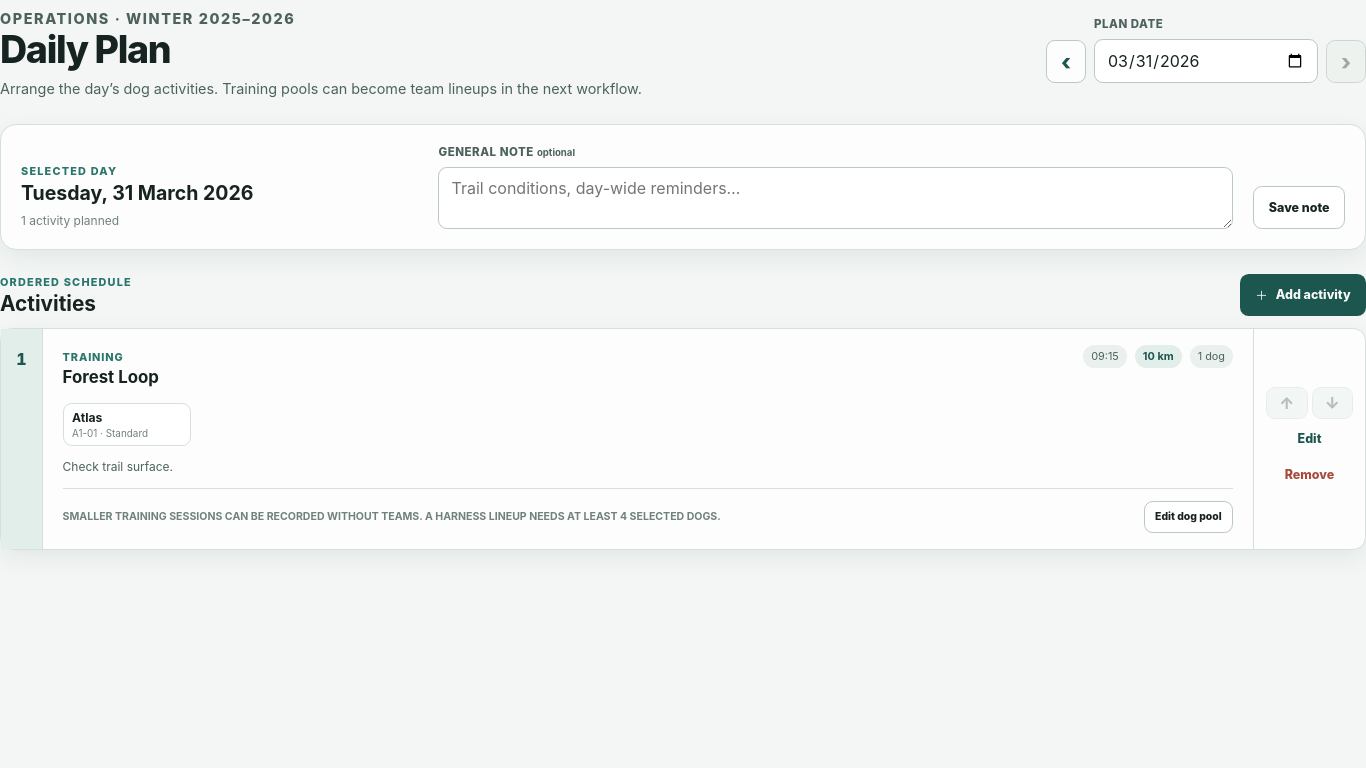
Test: DailyPlanPageComponent › edits and deletes an activity with revision-aware requests
The width and height of the screenshot is (1366, 768).
Click the button "Edit" at (1310, 439), box top-left (1266, 423), bottom-right (1353, 455)
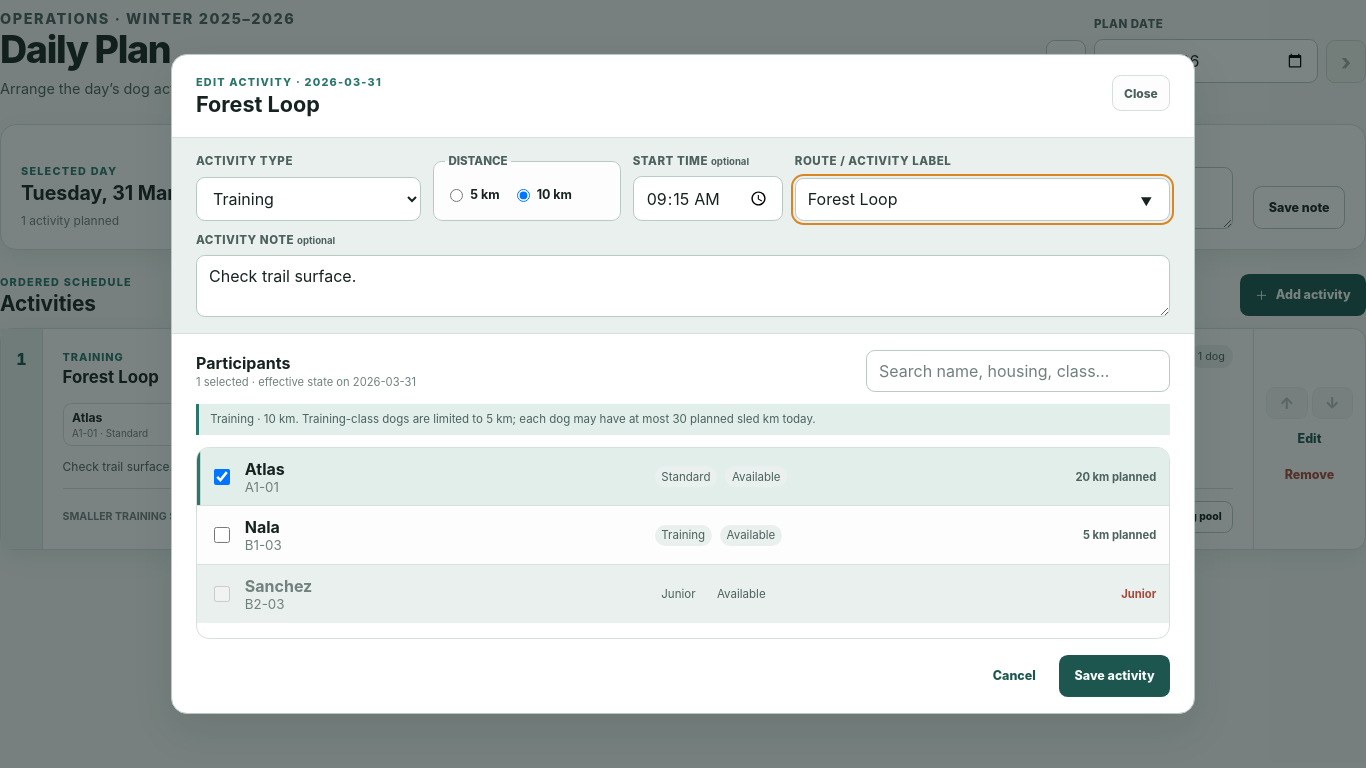
Submit the form, box top-left (172, 138), bottom-right (1194, 713)
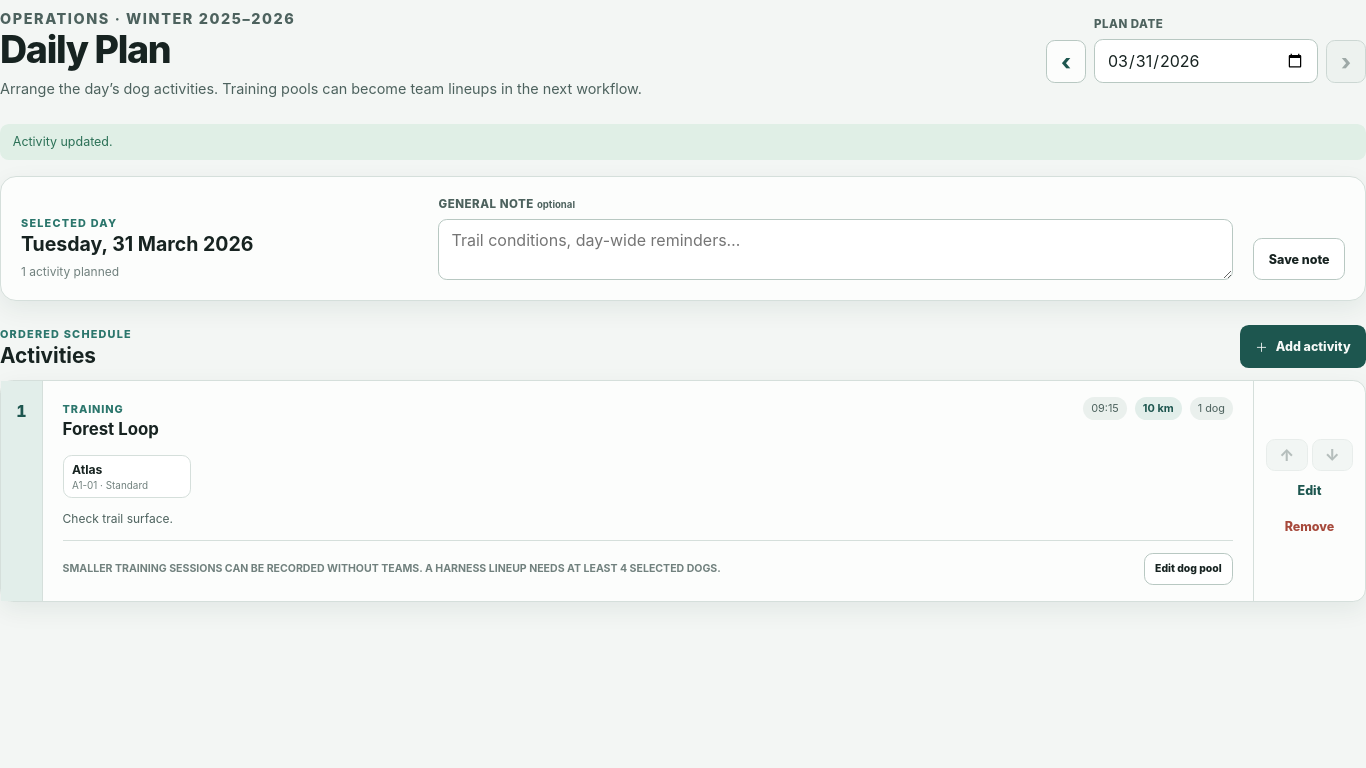
Click the button "Remove" at (1310, 527), box top-left (1266, 511), bottom-right (1353, 543)
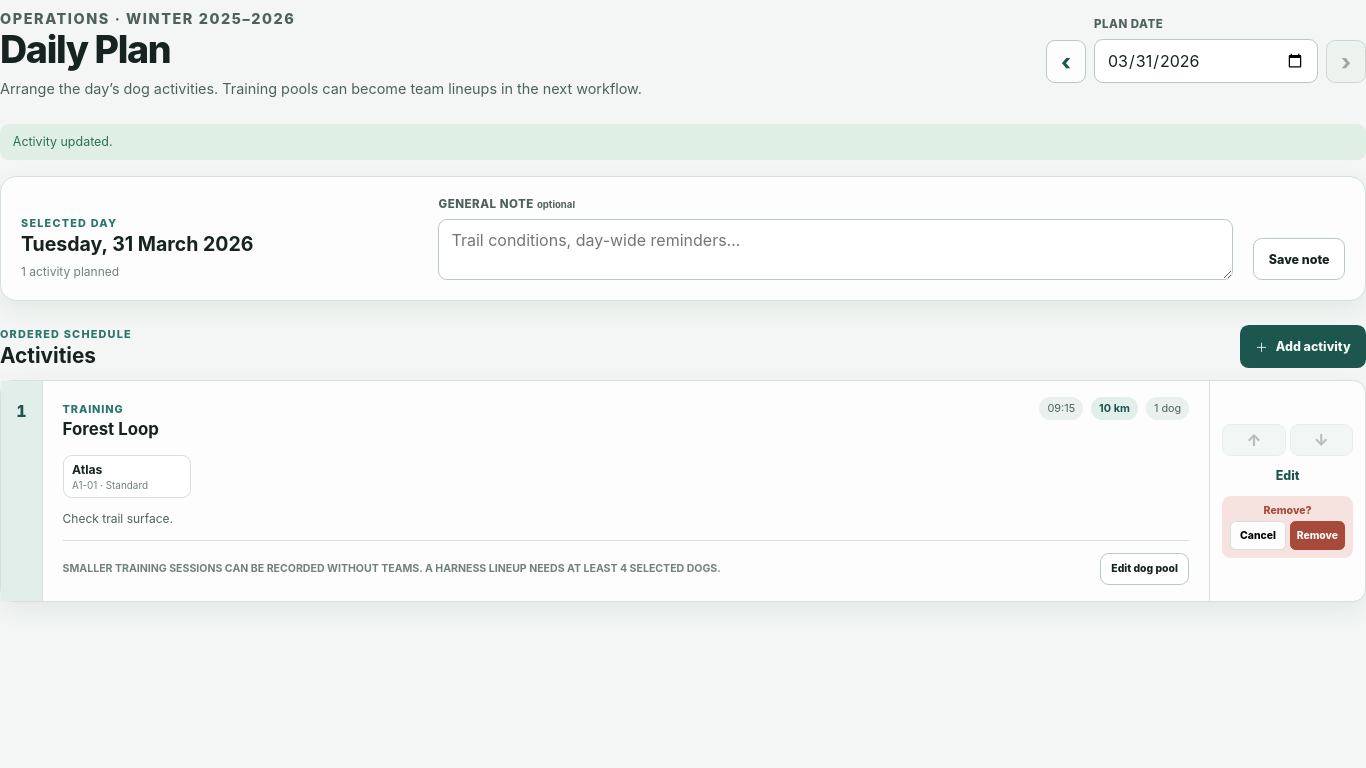
Check: the text "Remove?" is shown, box top-left (1264, 504), bottom-right (1312, 517)
Click the button with class "danger" at (1317, 535), box top-left (1290, 521), bottom-right (1345, 550)
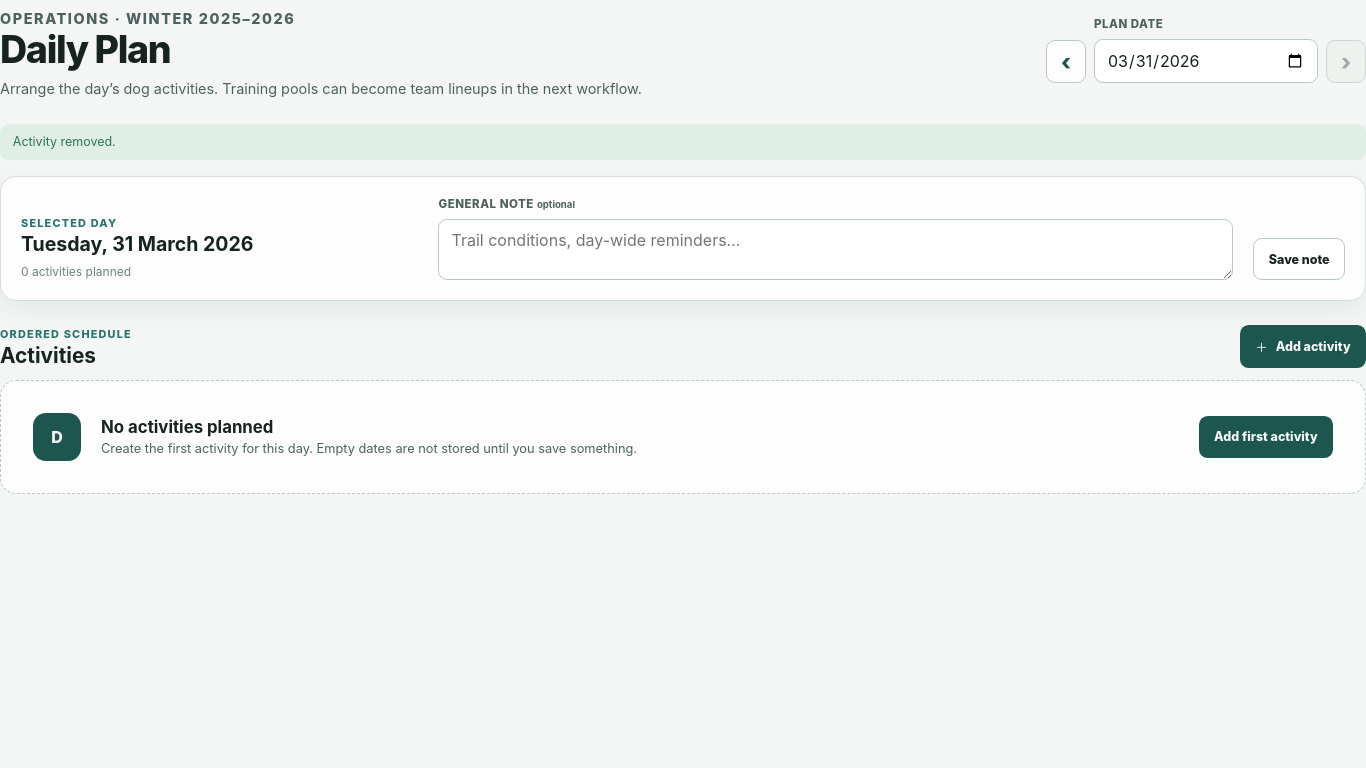
Check: the text "No activities planned" is shown, box top-left (101, 417), bottom-right (273, 437)
